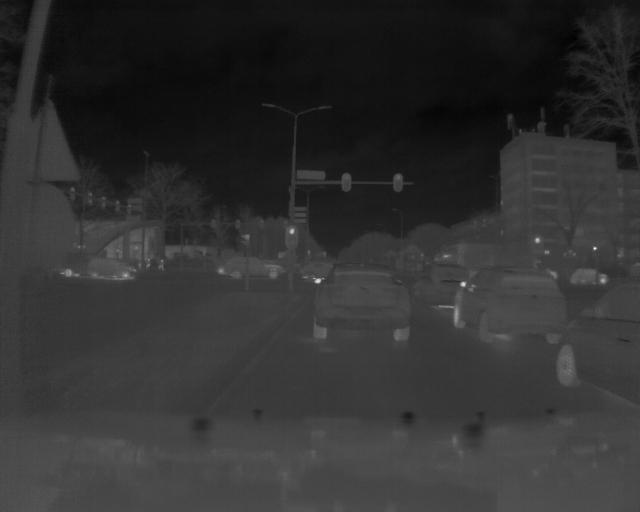car: (551, 281, 640, 399), (451, 267, 562, 347), (312, 262, 411, 350), (219, 255, 283, 280), (88, 256, 137, 283)
